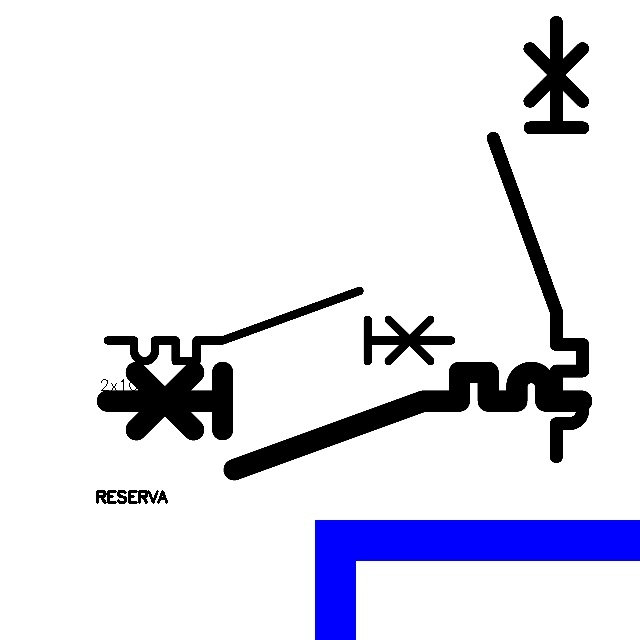interruptor_termomagnetico: (95, 360, 594, 482), (482, 11, 594, 468), (99, 282, 460, 370)
